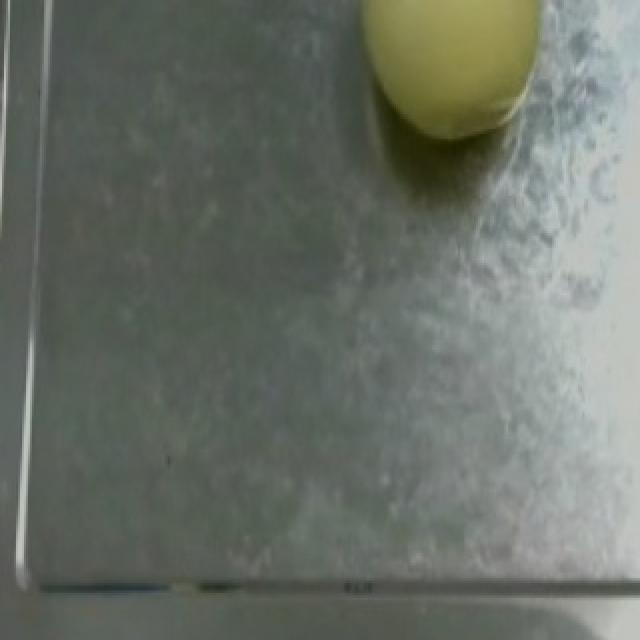Fruit: (328, 0, 580, 161)
